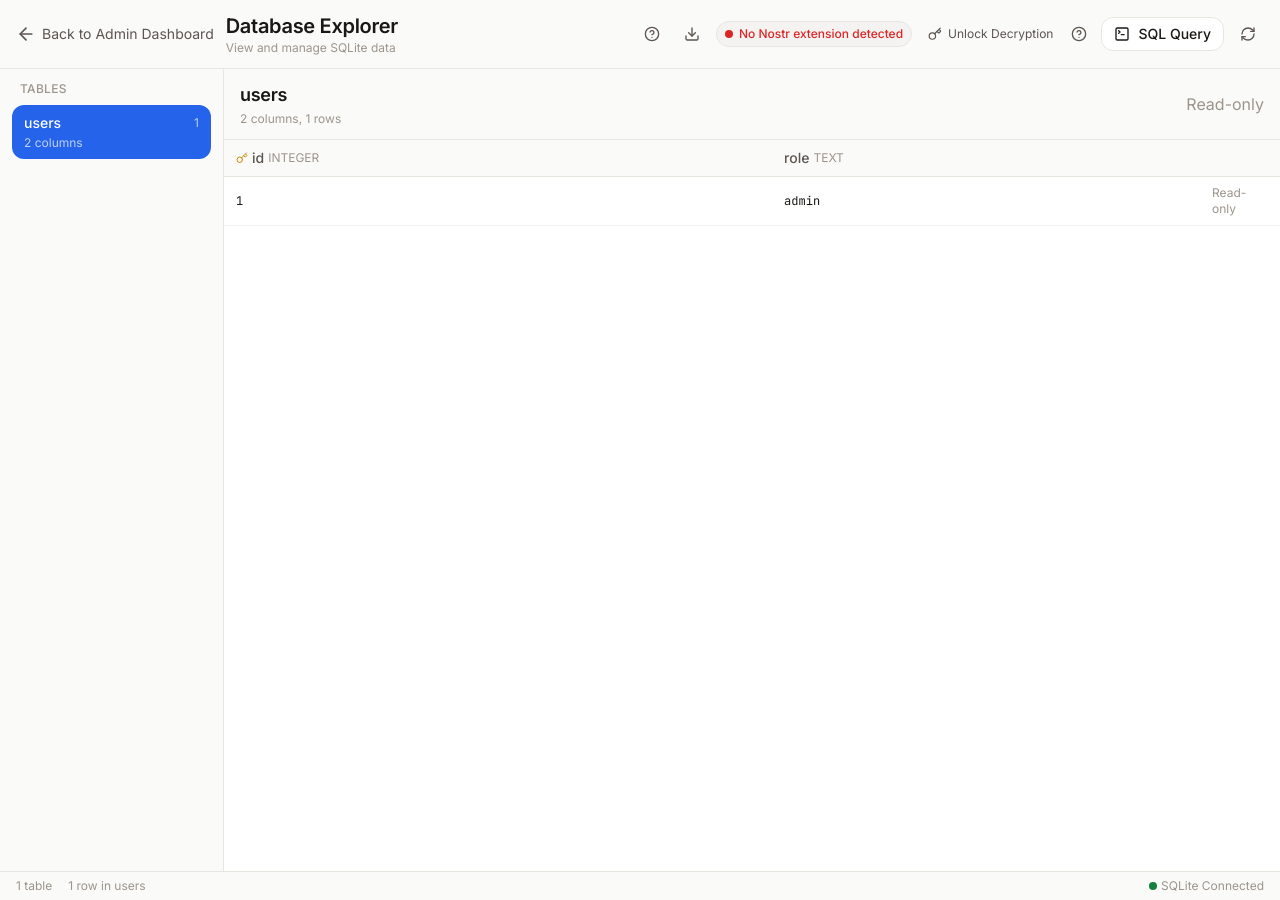
Test case: AdminDatabaseExplorer › contains safe database query output in a named result surface
The width and height of the screenshot is (1280, 900).
Expected: the text "users" is shown, [24, 113, 61, 133]
Click the button "SQL Query".
click(1163, 34)  # box [1102, 17, 1224, 51]
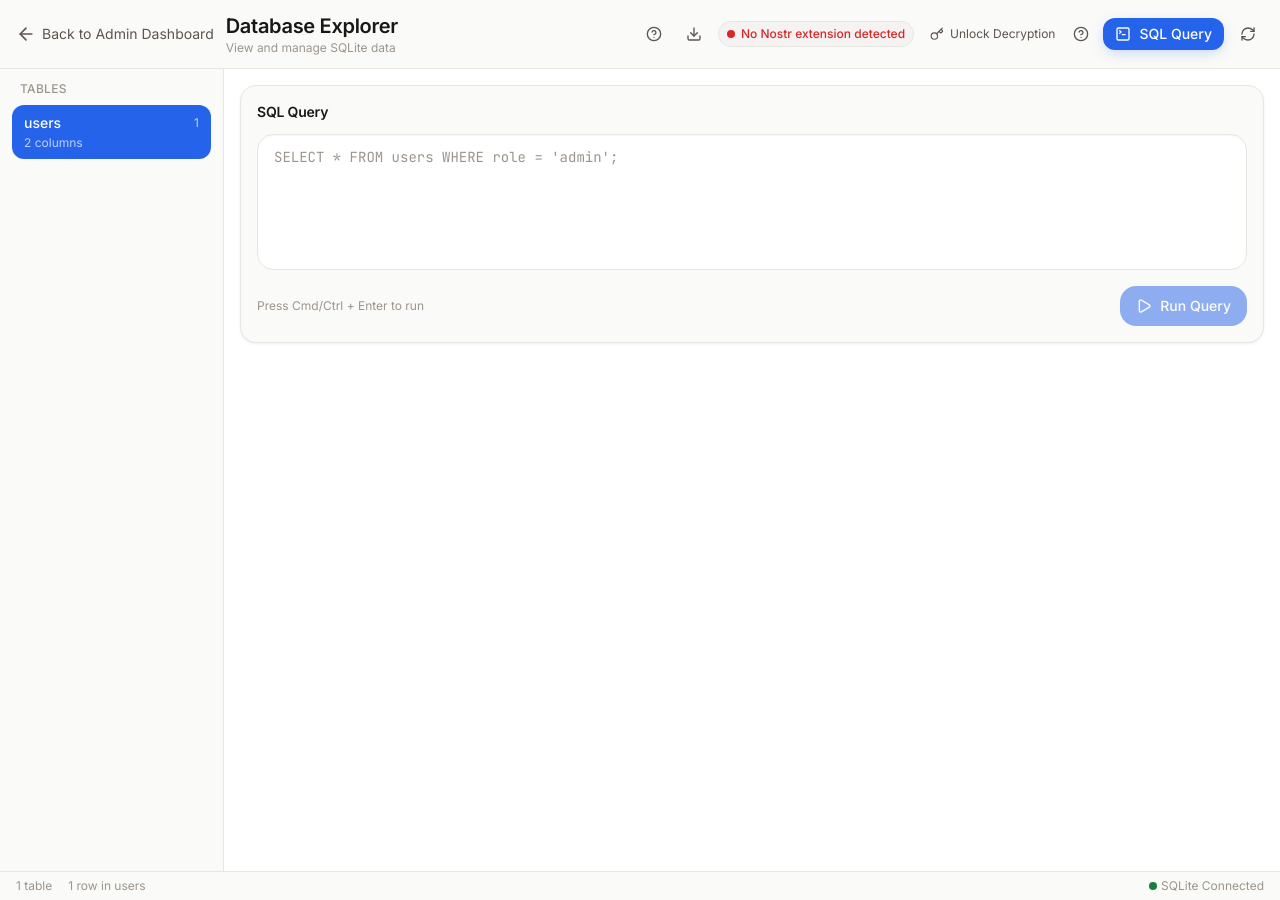
Type "SELECT id, role FROM users LIMIT 1;" into the text box labelled "SQL Query".
click(752, 199); type("SELECT id, role FROM users LIMIT 1;")  # box [258, 135, 1246, 263]
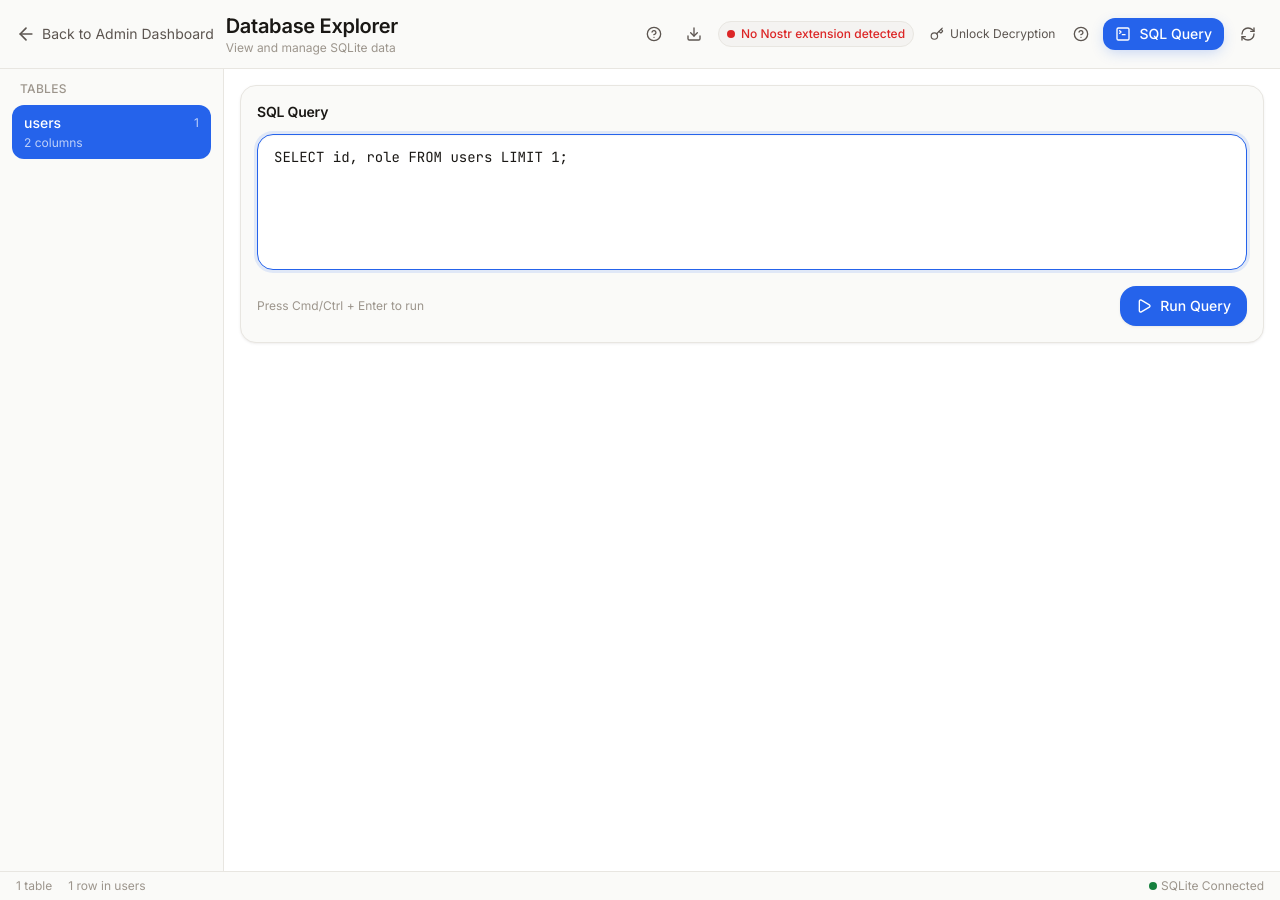
Click the button "Run Query".
click(1184, 306)  # box [1120, 286, 1247, 326]
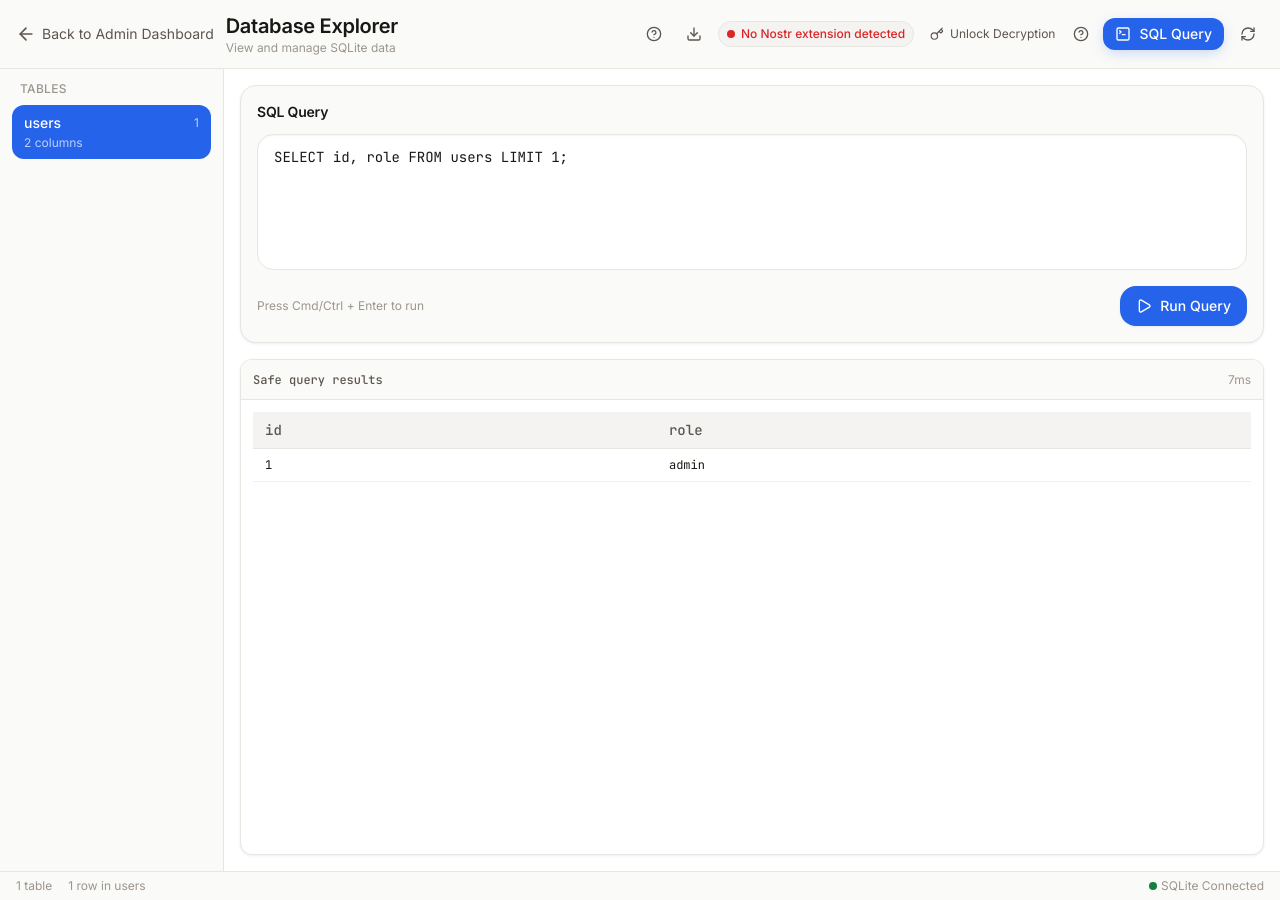
Now the column heading "id" is shown, box [253, 412, 657, 448]
Now the column heading "role" is shown, box [657, 412, 1251, 448]
Now the text "admin" is shown, box [657, 448, 1251, 482]
